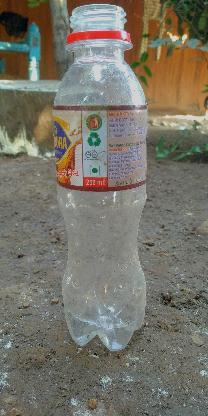Plastic Bottle: (53, 4, 147, 352)
